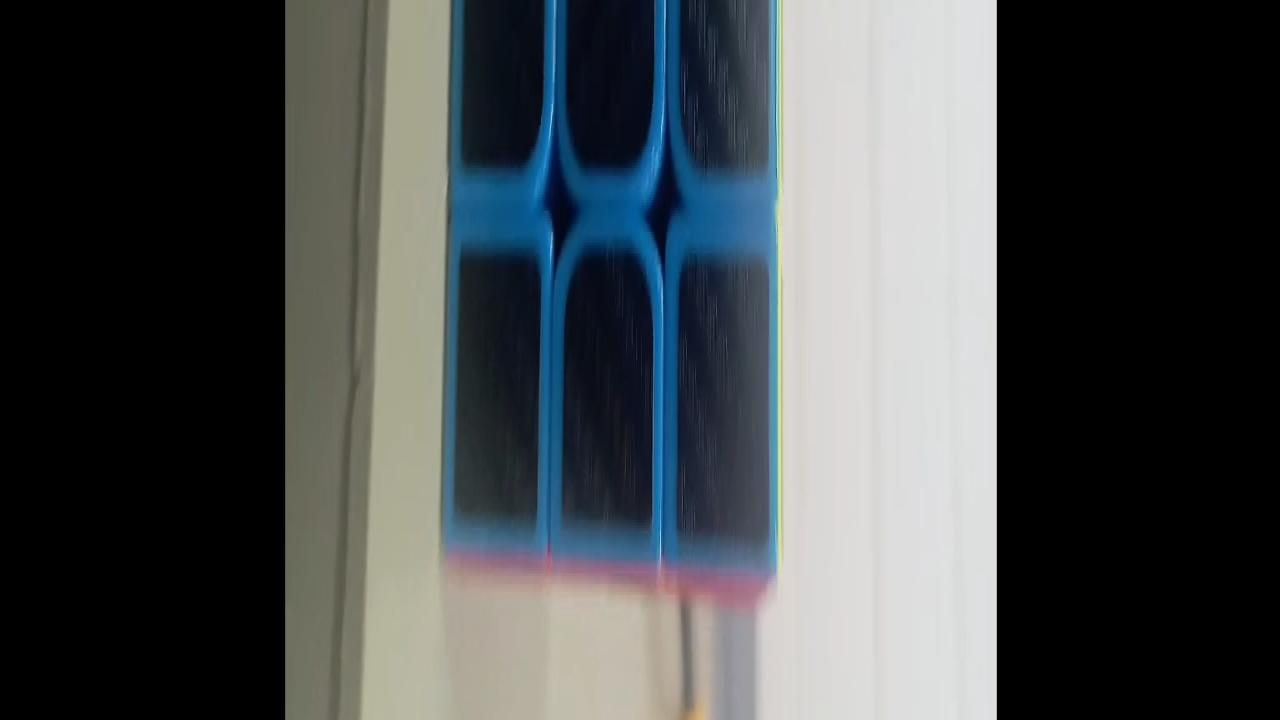Cube: (439, 0, 783, 610)
